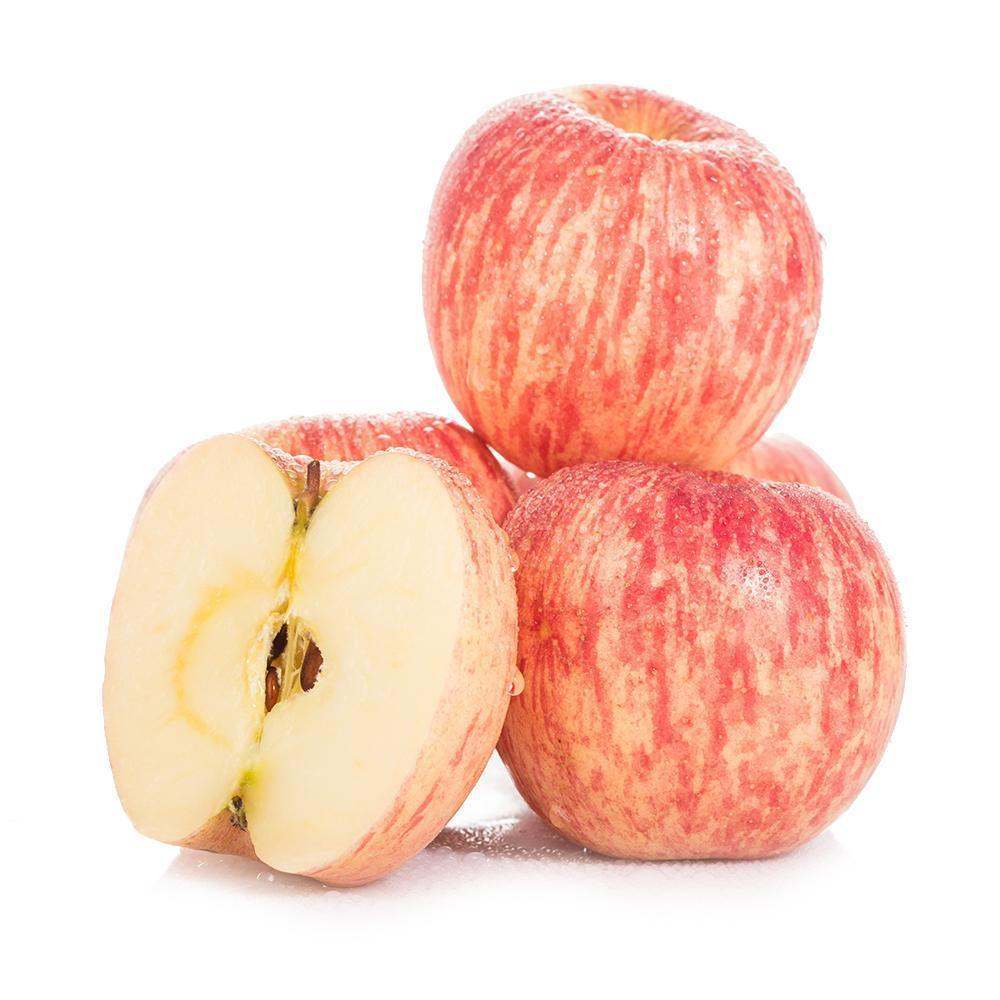apple: (424, 90, 833, 496), (492, 467, 895, 868)
